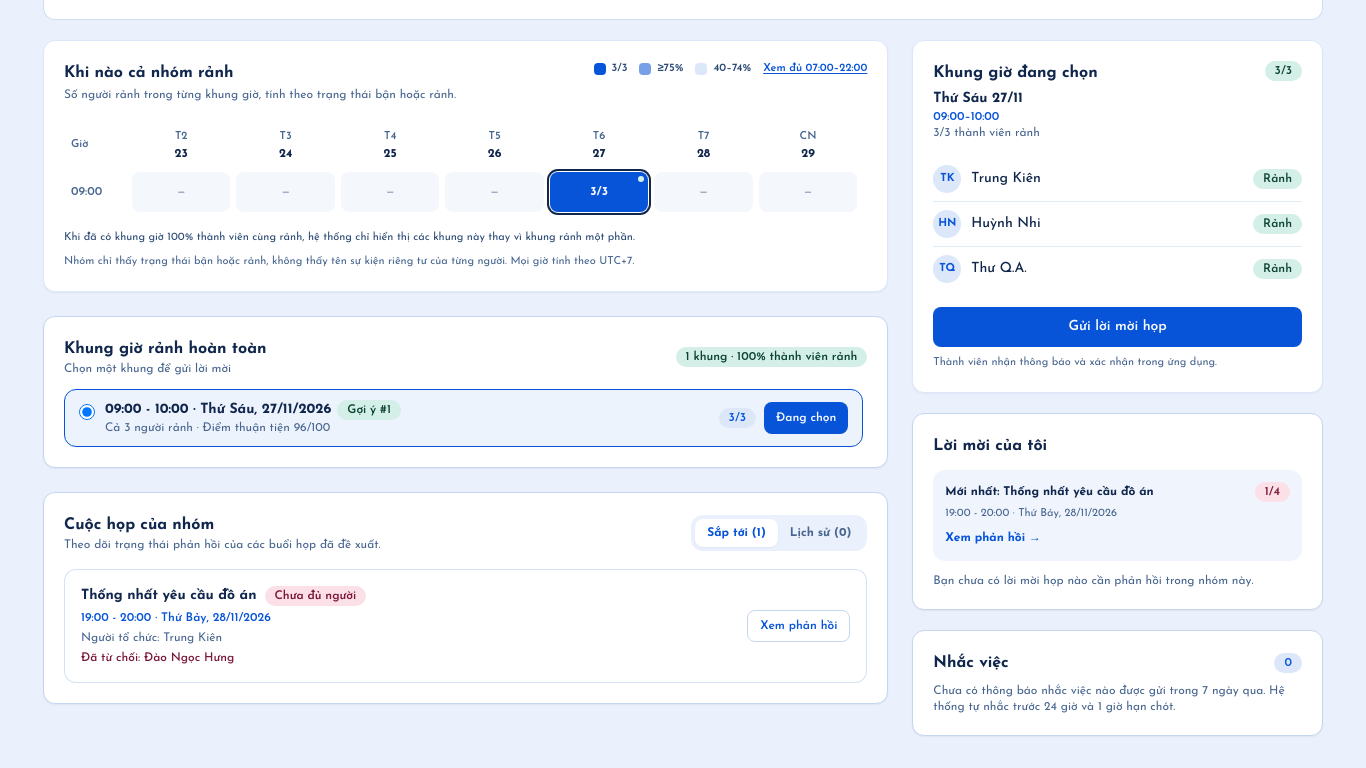
Test: MeetingsPage (TV4) › hiển thị chi tiết đề xuất với đủ 4 trạng thái lời mời (accepted, pending, declined, superseded)
(page scrolled)
Click the button "Xem phản hồi" at {"x": 799, "y": 626}, box [747,610,850,642]
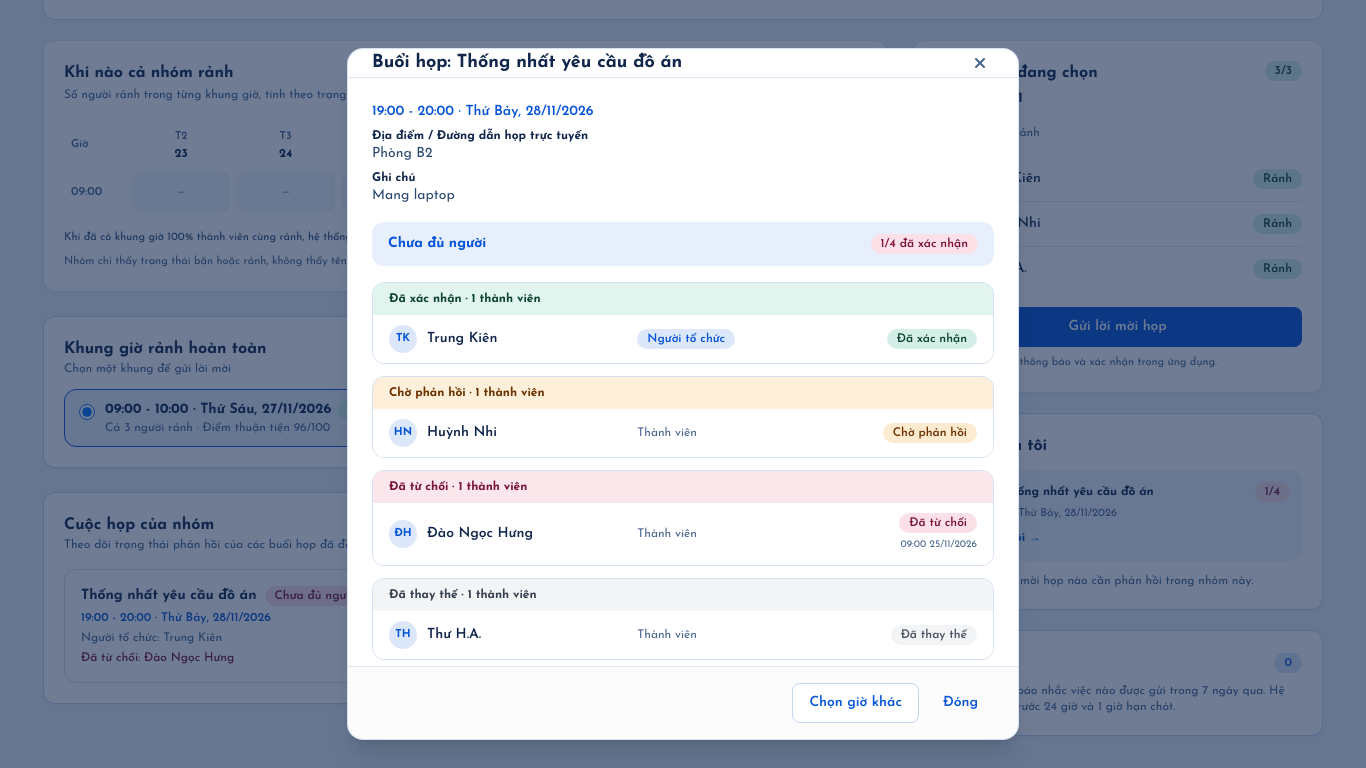
Check: the text "Đã xác nhận · 1 thành viên" is shown, box [373,283,993,315]
Check: the text "Chờ phản hồi · 1 thành viên" is shown, box [373,377,993,409]
Check: the text "Đã từ chối · 1 thành viên" is shown, box [373,471,993,503]
